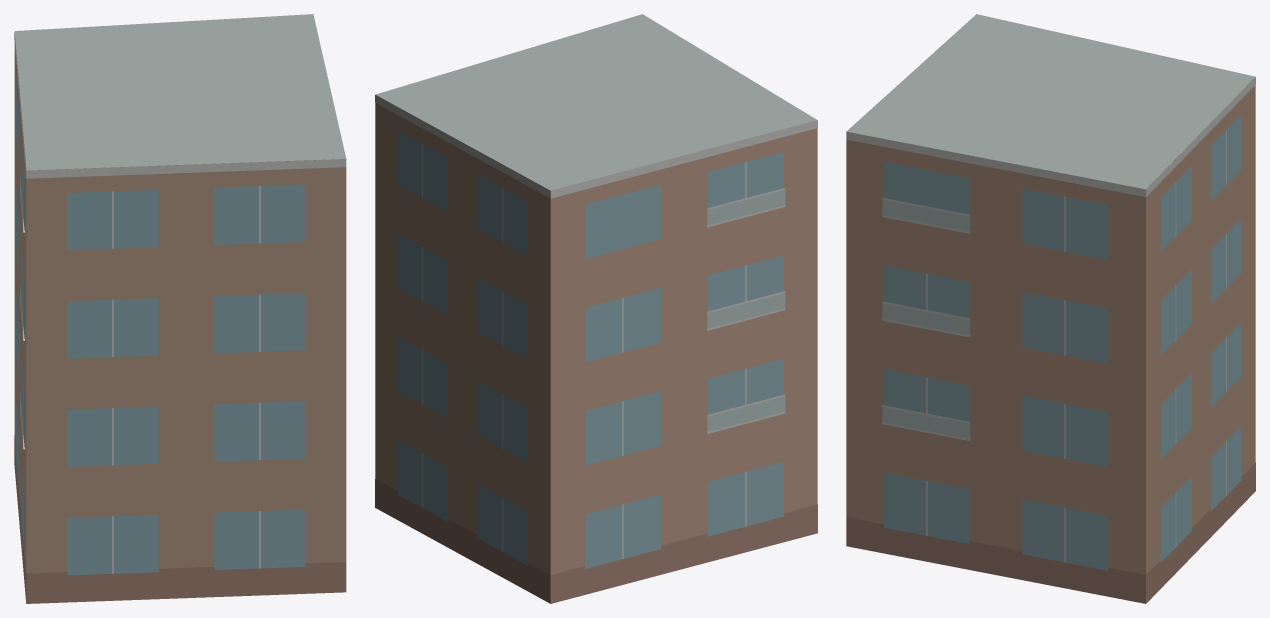
Rendered from survey-upis-33029599.glb.
3 renders of one model, left to right at view 1: azimuth 30°, elevation 25°; view 2: azimuth 150°, elevation 25°; view 3: azimuth 270°, elevation 25°, orthographic. The views are drawn at different scales.
Parts seen in each view (by area): view 1: survey-upis-33029599.tmp; view 2: survey-upis-33029599.tmp; view 3: survey-upis-33029599.tmp.
Part boxes in pixels (x1,y1,x2,y2): survey-upis-33029599.tmp: [14, 14, 346, 603]; survey-upis-33029599.tmp: [375, 14, 817, 603]; survey-upis-33029599.tmp: [846, 14, 1255, 603].
Size of the model in its own units: 11.62 by 12.8 by 11.47.
